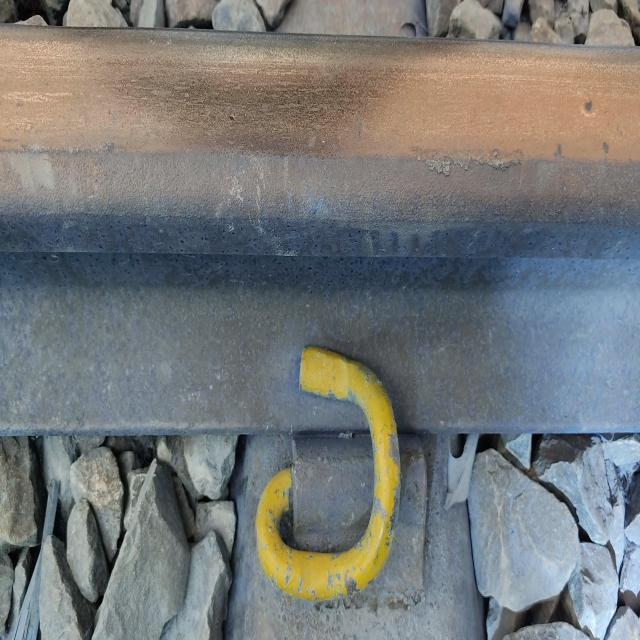Good Fasteners: (231, 317, 452, 640)
